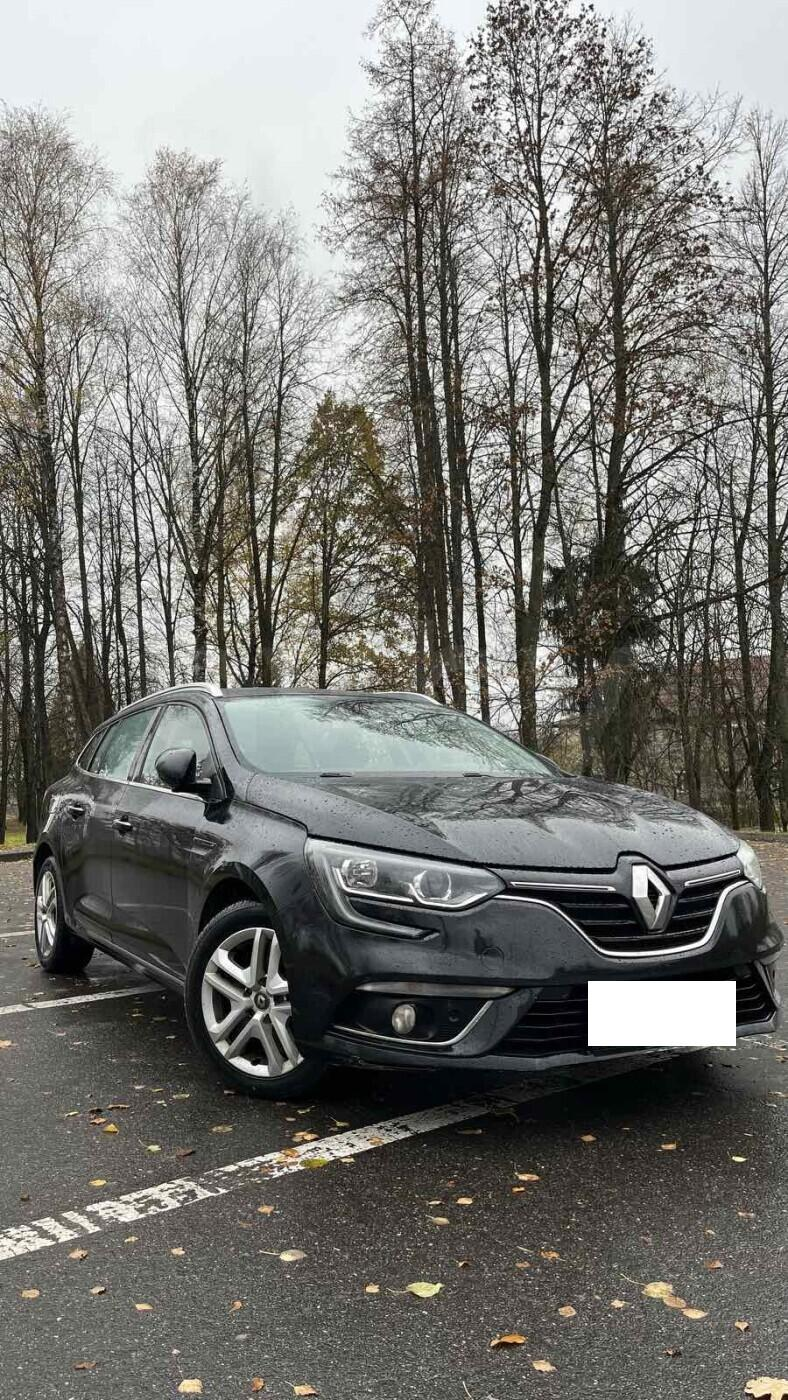Megane_2016-2020: (32, 678, 788, 1110)
